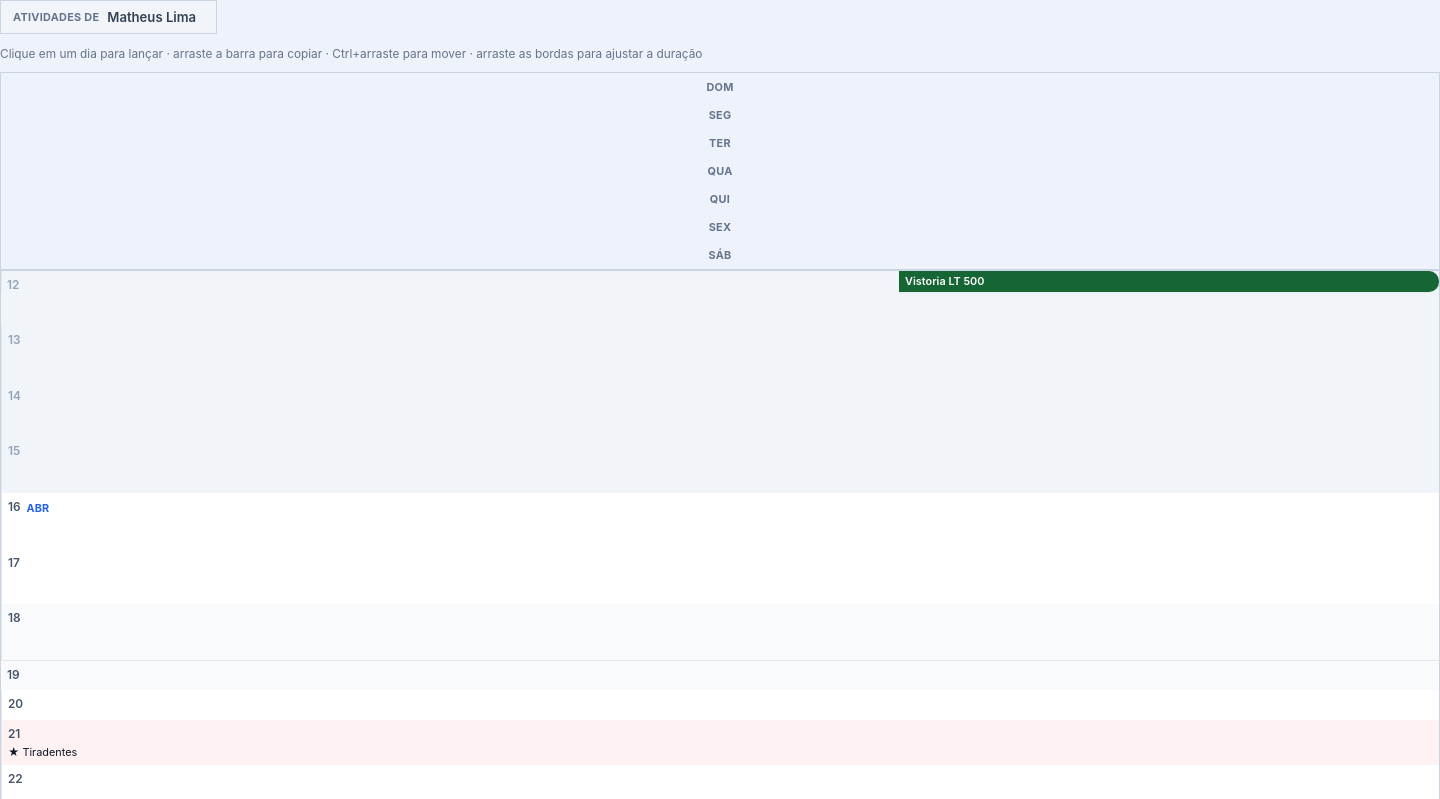
it: ActivitiesSection › troca de engenheiro pelo seletor mostra o calendario dele
Click the button with test id "eng-selector" at (109,17), box [0,0,217,34]
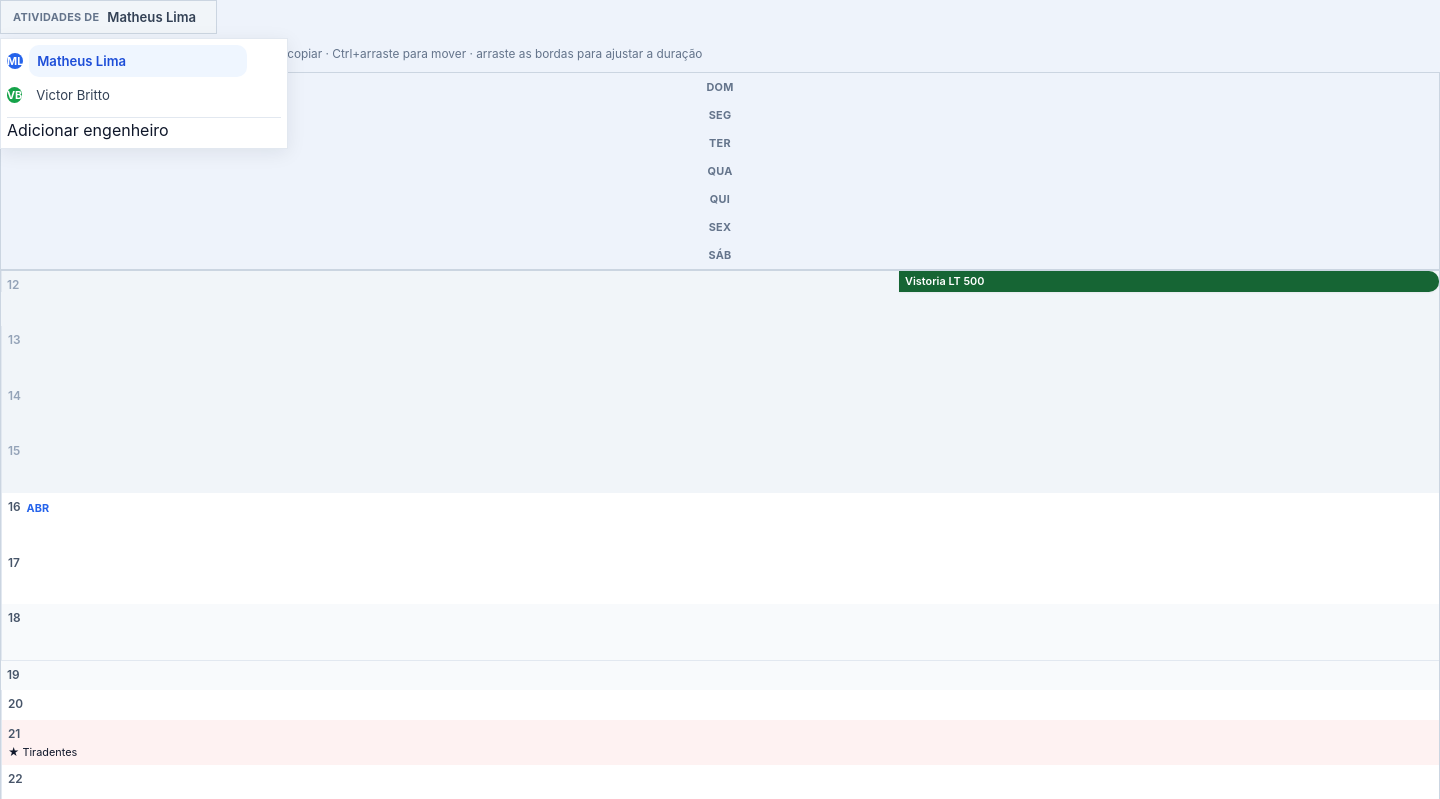
Click the button "Victor Britto" at (141,95), box [28,79,253,111]
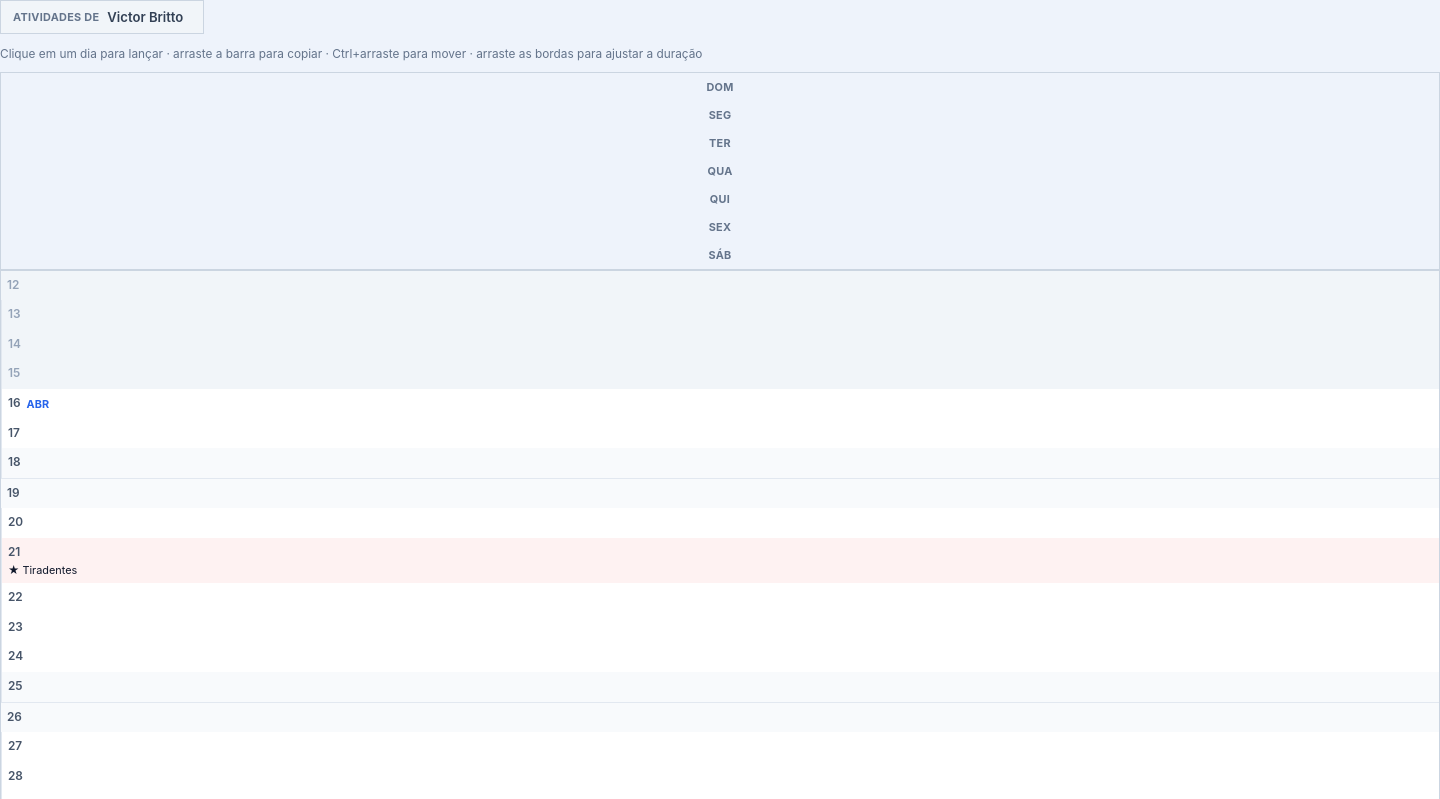
Expected: the button with test id "eng-selector" shows "Victor Britto", [0,0,204,34]
